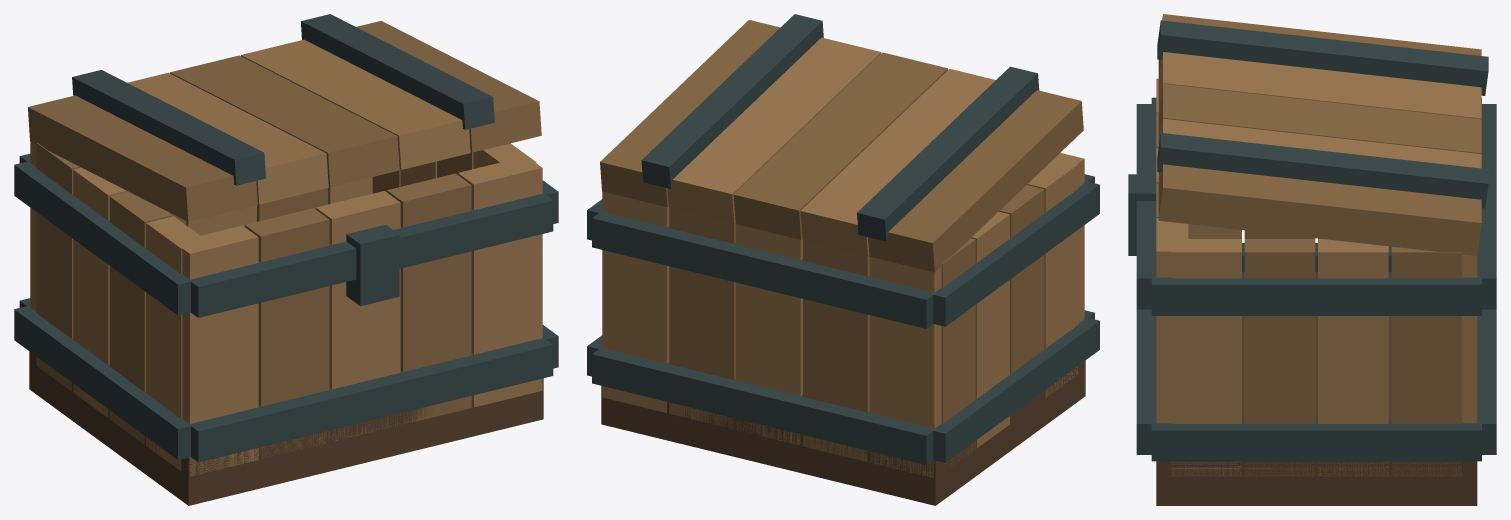
Rendered from shipping_bin.glb.
3 views of the same model, side by side, from view 1: azimuth 30°, elevation 25°; view 2: azimuth 150°, elevation 25°; view 3: azimuth 270°, elevation 25° (orthographic). The views are drawn at different scales.
Parts seen in each view (by area): view 1: Slightly_open_shipping_lid, Bin_floor, Bin_iron_end_band, Bin_iron_end_band.002, Bin_vertical_plank, Bin_vertical_plank.004, Bin_vertical_plank.003, Bin_vertical_plank.001, Bin_vertical_plank.002, Bin_iron_side_band.002, Bin_iron_side_band, Bin_side_plank (+11 smaller); view 2: Slightly_open_shipping_lid, Bin_floor, Bin_iron_end_band.003, Bin_iron_end_band.001, Bin_vertical_plank.005, Bin_vertical_plank.009, Bin_vertical_plank.006, Bin_vertical_plank.008, Bin_vertical_plank.007, Bin_iron_side_band, Bin_iron_side_band.002, Bin_side_plank (+4 smaller); view 3: Slightly_open_shipping_lid, Bin_floor, Bin_iron_side_band.001, Bin_iron_side_band.003, Bin_side_plank.005, Bin_side_plank.004, Bin_side_plank.006, Bin_side_plank.007, Bin_iron_end_band.002, Bin_iron_end_band.003, Bin_vertical_plank.004, Bin_iron_end_band (+4 smaller).
Part boxes in pixels (x1=…): Slightly_open_shipping_lid: x1=28, y1=14, x2=541, y2=221; Bin_floor: x1=29, y1=351, x2=543, y2=505; Bin_iron_end_band: x1=184, y1=337, x2=553, y2=462; Bin_iron_end_band.002: x1=184, y1=193, x2=553, y2=317; Bin_vertical_plank: x1=174, y1=225, x2=258, y2=476; Bin_vertical_plank.004: x1=458, y1=156, x2=542, y2=407; Bin_vertical_plank.003: x1=387, y1=173, x2=471, y2=423; Bin_vertical_plank.001: x1=245, y1=208, x2=329, y2=458; Bin_vertical_plank.002: x1=316, y1=191, x2=400, y2=440; Bin_iron_side_band.002: x1=14, y1=161, x2=201, y2=315; Bin_iron_side_band: x1=14, y1=305, x2=201, y2=459; Bin_side_plank: x1=146, y1=216, x2=208, y2=471; Slightly_open_shipping_lid: x1=600, y1=14, x2=1083, y2=272; Bin_floor: x1=601, y1=360, x2=1085, y2=505; Bin_iron_end_band.003: x1=592, y1=211, x2=939, y2=328; Bin_iron_end_band.001: x1=592, y1=347, x2=933, y2=464; Bin_vertical_plank.005: x1=870, y1=257, x2=941, y2=478; Bin_vertical_plank.009: x1=602, y1=191, x2=669, y2=412; Bin_vertical_plank.006: x1=803, y1=240, x2=869, y2=461; Bin_vertical_plank.008: x1=669, y1=208, x2=735, y2=428; Bin_vertical_plank.007: x1=736, y1=224, x2=802, y2=445; Bin_iron_side_band: x1=921, y1=317, x2=1099, y2=462; Bin_iron_side_band.002: x1=932, y1=182, x2=1099, y2=326; Bin_side_plank: x1=1027, y1=164, x2=1078, y2=397; Slightly_open_shipping_lid: x1=1157, y1=14, x2=1488, y2=255; Bin_floor: x1=1156, y1=316, x2=1477, y2=505; Bin_iron_side_band.001: x1=1151, y1=417, x2=1481, y2=461; Bin_iron_side_band.003: x1=1151, y1=272, x2=1481, y2=315; Bin_side_plank.005: x1=1244, y1=239, x2=1315, y2=476; Bin_side_plank.004: x1=1171, y1=239, x2=1241, y2=476; Bin_side_plank.006: x1=1318, y1=239, x2=1388, y2=476; Bin_side_plank.007: x1=1391, y1=246, x2=1461, y2=476; Bin_iron_end_band.002: x1=1136, y1=104, x2=1156, y2=309; Bin_iron_end_band.003: x1=1477, y1=104, x2=1496, y2=309; Bin_vertical_plank.004: x1=1156, y1=218, x2=1188, y2=423; Bin_iron_end_band: x1=1136, y1=309, x2=1156, y2=454.
Bounding box in the file's own units: 0.965 × 0.8056 × 0.8035.
